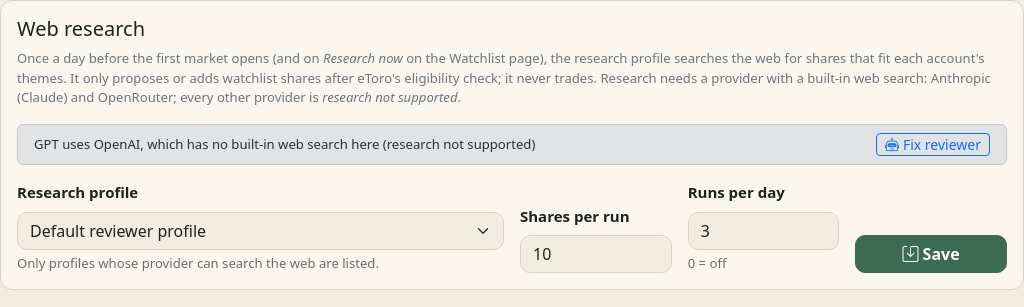
Test: ResearchSettings (R29) › offers only profiles that can search the web, explains why research is off, and saves
expect the text "research not supported)" is shown: met, box [34,135,535,153]
expect the link "Fix reviewer" is shown: met, box [876,133,990,156]
Select "Claude" in the dropdown labelled "Research profile". click: (260, 231)
box: [17,212,504,250]
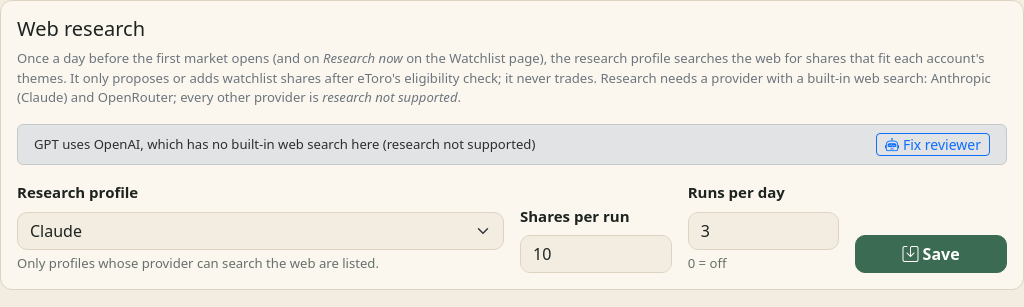
Replace the text in the number field labelled "Shares per run" with "5". click: (596, 254)
box: [520,235,672,273]
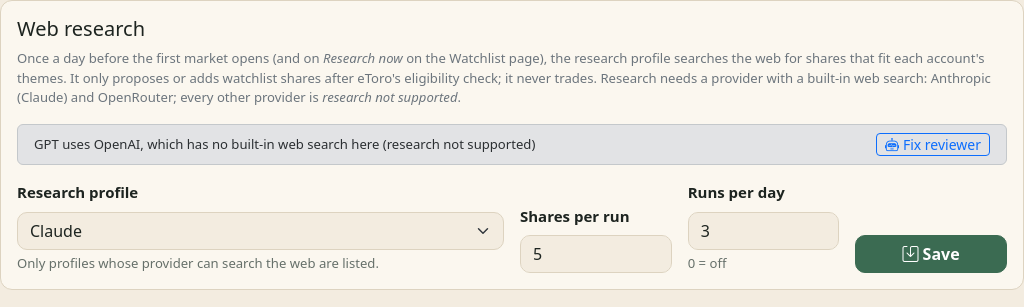
Replace the text in the number field labelled "Runs per day" with "1". click: (764, 231)
box: [688,212,839,250]
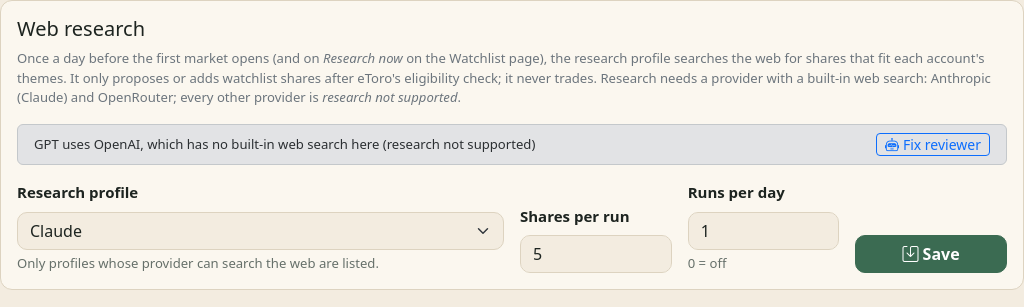
Click the button "Save". click: (931, 254)
box: [855,235,1007,273]
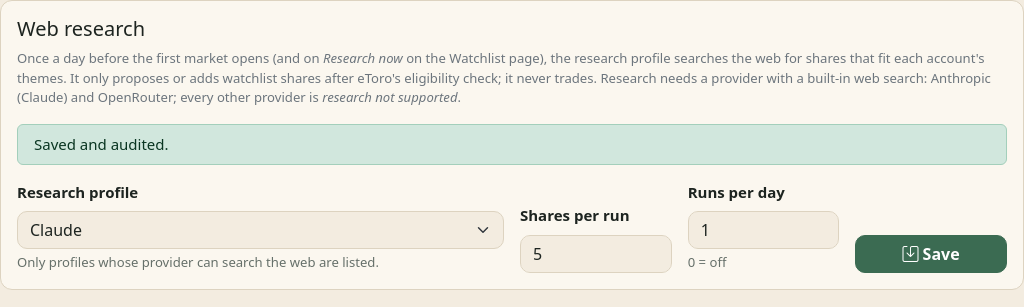
expect the text "Saved and audited." is shown: met, box [17,124,1007,165]
